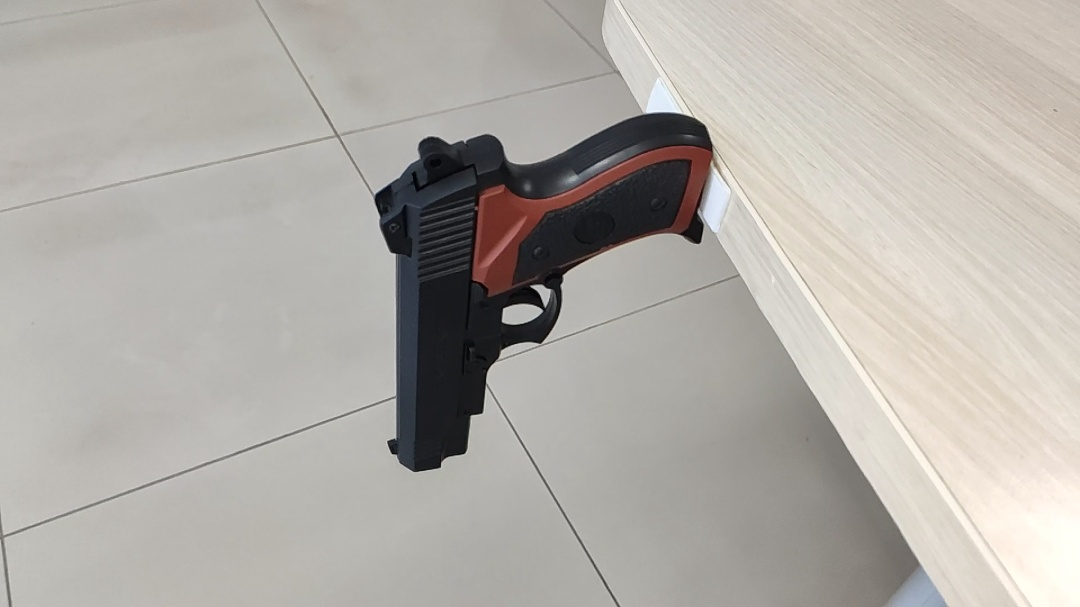gun: (374, 109, 716, 477)
